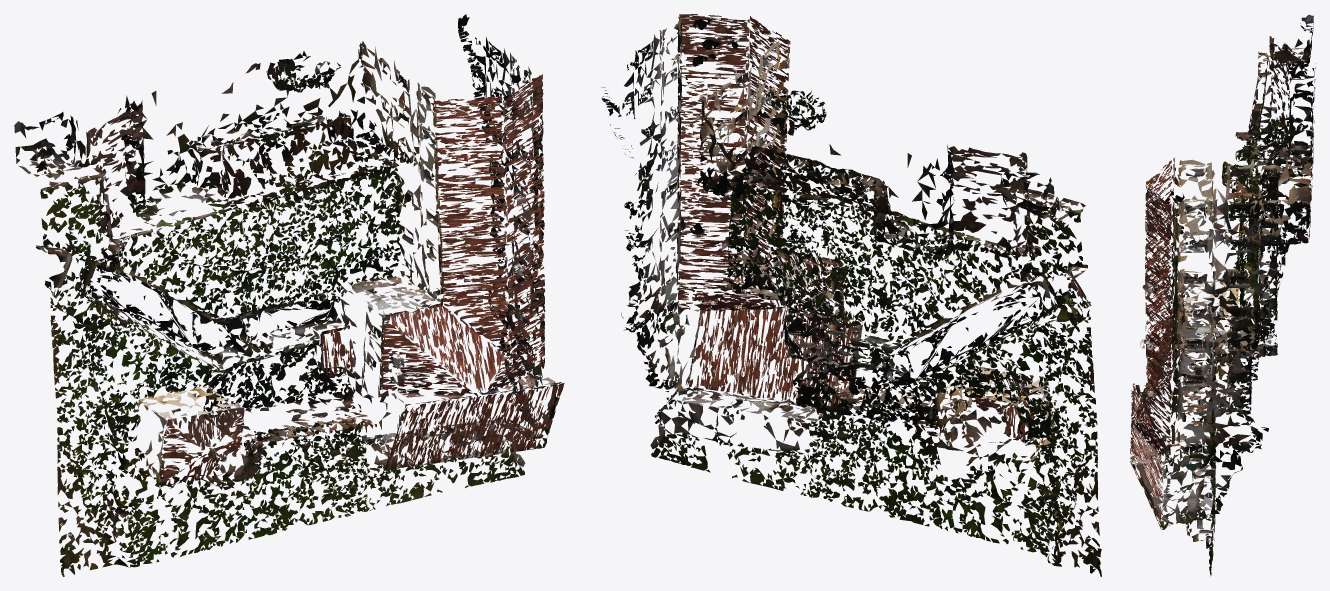
3 views of the same model, side by side, from view 1: azimuth 30°, elevation 25°; view 2: azimuth 150°, elevation 25°; view 3: azimuth 270°, elevation 25° (orthographic). The views are drawn at different scales.
Size of the model in its own units: 50 by 44.66 by 20.03.
1 material, 1 textured.
